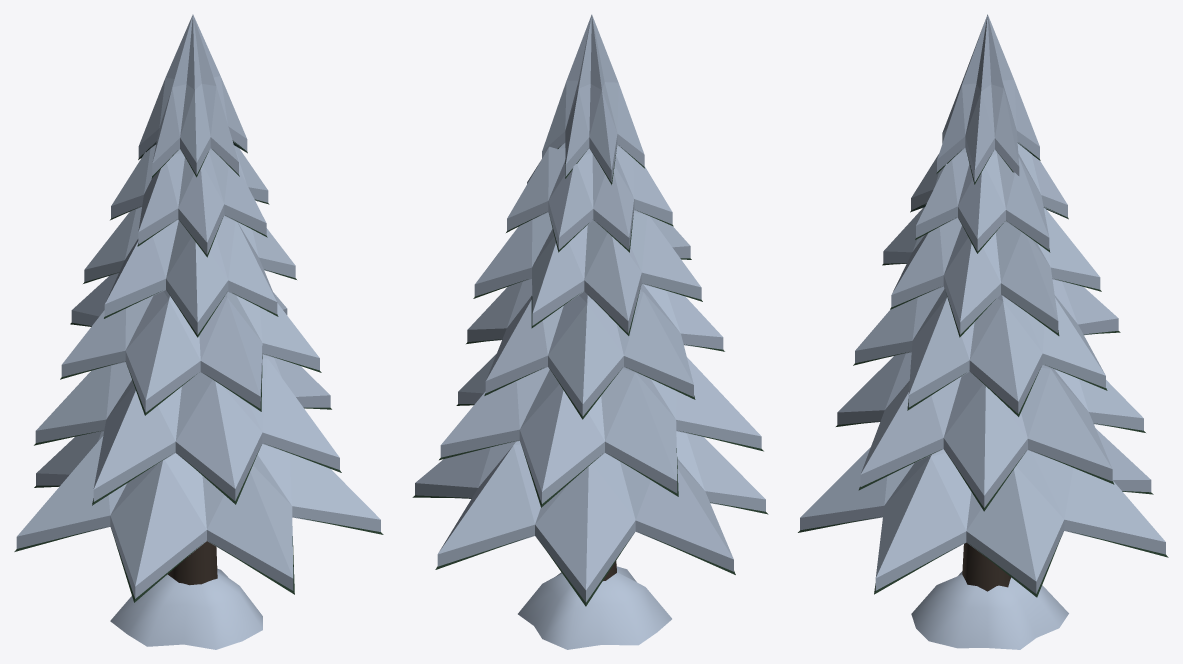
Rendered from pine_f.glb.
3 renders of one model, left to right at view 1: azimuth 30°, elevation 25°; view 2: azimuth 150°, elevation 25°; view 3: azimuth 270°, elevation 25°, orthographic.
Visible parts, largest first — view 1: Tree; view 2: Tree; view 3: Tree.
Boxes of the visible parts, box(x1,y1,x2,y2) form: Tree: box(14, 14, 383, 649); Tree: box(412, 14, 768, 649); Tree: box(798, 14, 1168, 649).
Bounding box in the file's own units: 3.49 × 6.35 × 3.52.
